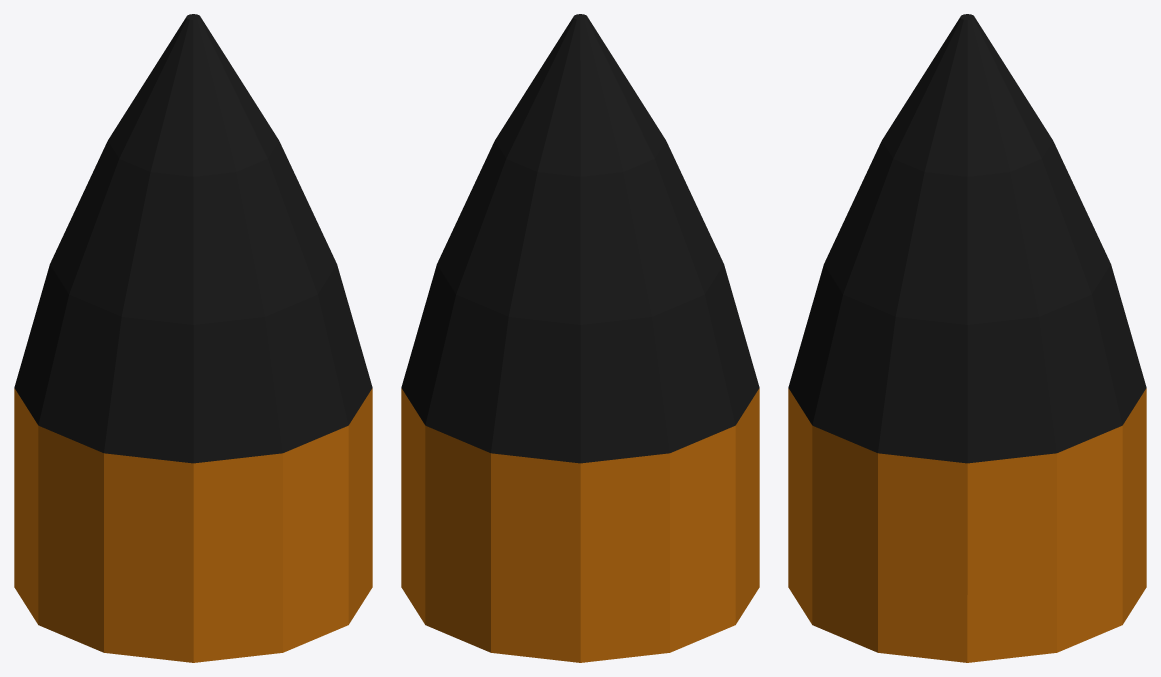
Rendered from Bullet.fbx.
The picture shows the model from 3 angles, left to right: view 1: azimuth 30°, elevation 25°; view 2: azimuth 150°, elevation 25°; view 3: azimuth 270°, elevation 25°; orthographic projection.
Parts seen in each view (by area): view 1: Cylinder; view 2: Cylinder; view 3: Cylinder.
Boxes of the visible parts, x1,y1,x2,y2 form: Cylinder: (14,14,372,662); Cylinder: (401,14,759,662); Cylinder: (788,14,1146,662).
Size of the model in its own units: 25.34 by 44.5 by 25.34.
